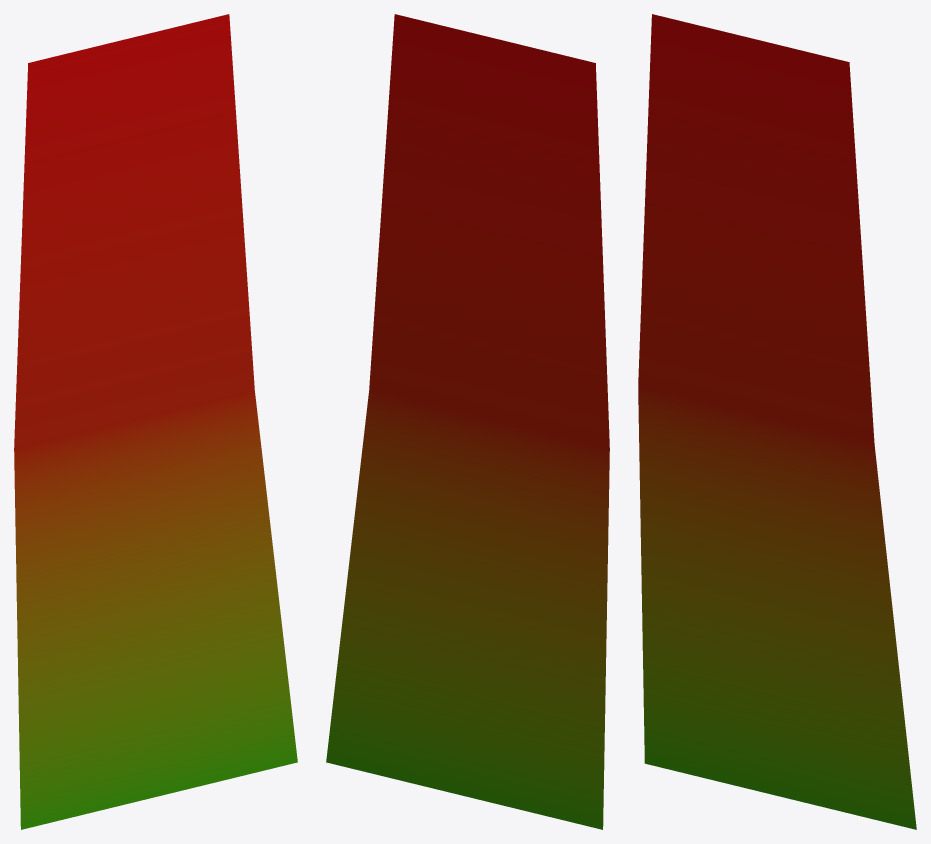
File: Dragon Tree_LOD3_Var3_siumT.fbx
The picture shows the model from 3 angles, left to right: view 1: azimuth 30°, elevation 25°; view 2: azimuth 150°, elevation 25°; view 3: azimuth 330°, elevation 25°; orthographic projection.
Visible parts, largest first — view 1: _ed8b_Var3_LOD3; view 2: _ed8b_Var3_LOD3; view 3: _ed8b_Var3_LOD3.
Boxes of the visible parts, bbox=[...] form: _ed8b_Var3_LOD3: bbox=[14, 14, 297, 829]; _ed8b_Var3_LOD3: bbox=[326, 14, 609, 829]; _ed8b_Var3_LOD3: bbox=[638, 14, 916, 829].
Bounding box in the file's own units: 49.46 × 127 × 2.74e-06.
